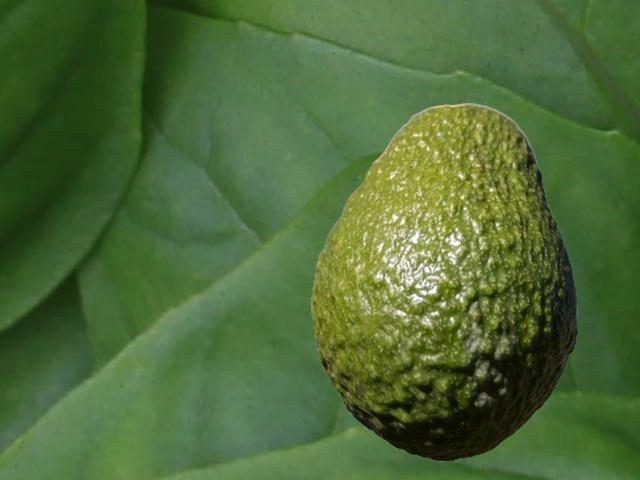avocado: (311, 102, 576, 460)
